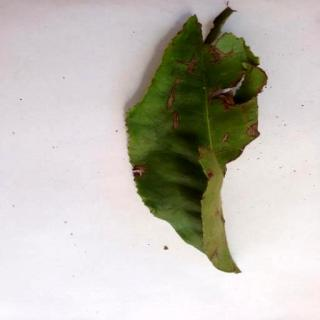Algal Leaf: (126, 9, 269, 275)
